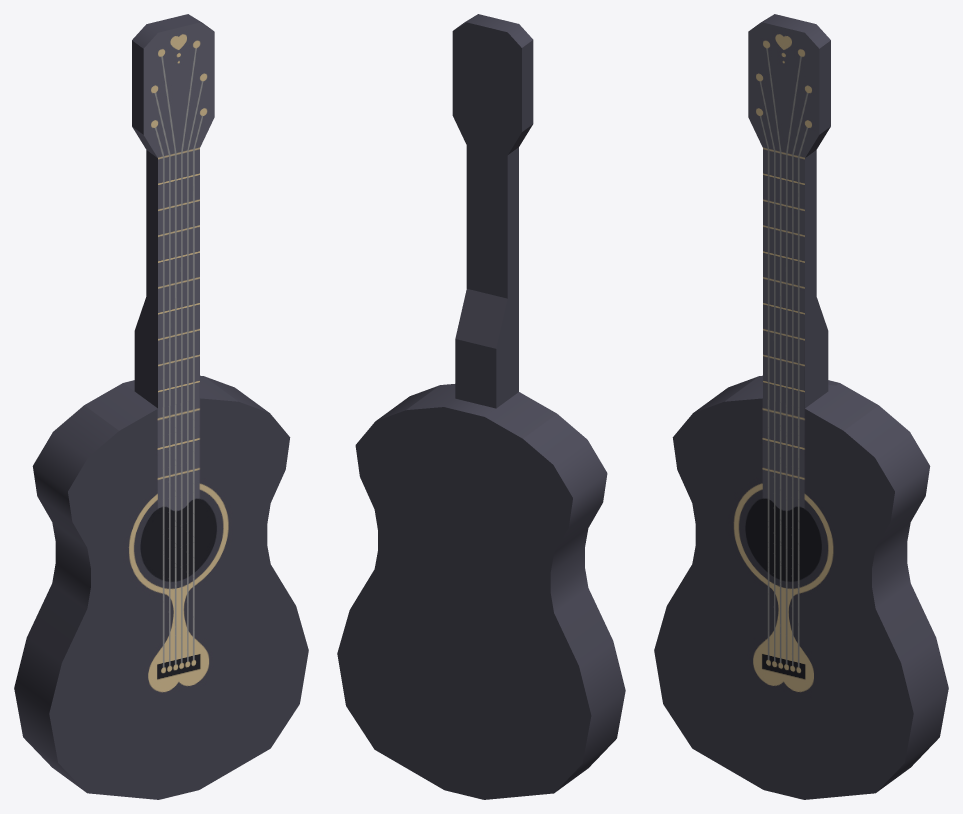
Rendered from guitar.fbx.
The picture shows the model from 3 angles, left to right: view 1: azimuth 30°, elevation 25°; view 2: azimuth 150°, elevation 25°; view 3: azimuth 330°, elevation 25°; orthographic projection. The views are drawn at different scales.
Parts seen in each view (by area): view 1: pCube4; view 2: pCube4; view 3: pCube4.
Part boxes in pixels (left/top/right/bottom): pCube4: left=14, top=14, right=308, bottom=799; pCube4: left=337, top=14, right=625, bottom=799; pCube4: left=654, top=14, right=948, bottom=799.
Size of the model in its own units: 0.8908 by 2.52 by 0.2085.
